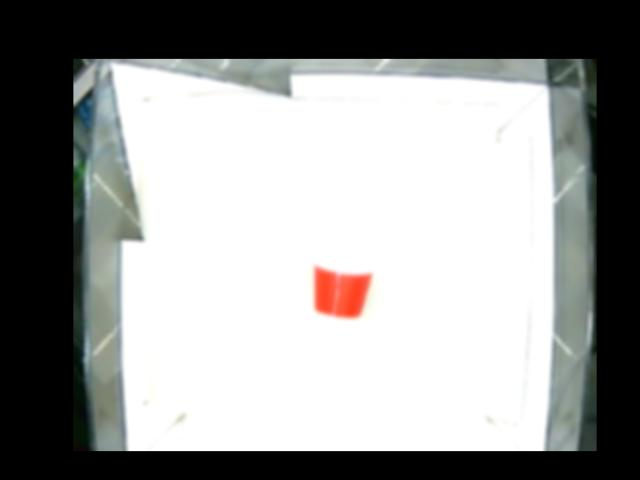Cup: (308, 249, 376, 332)
